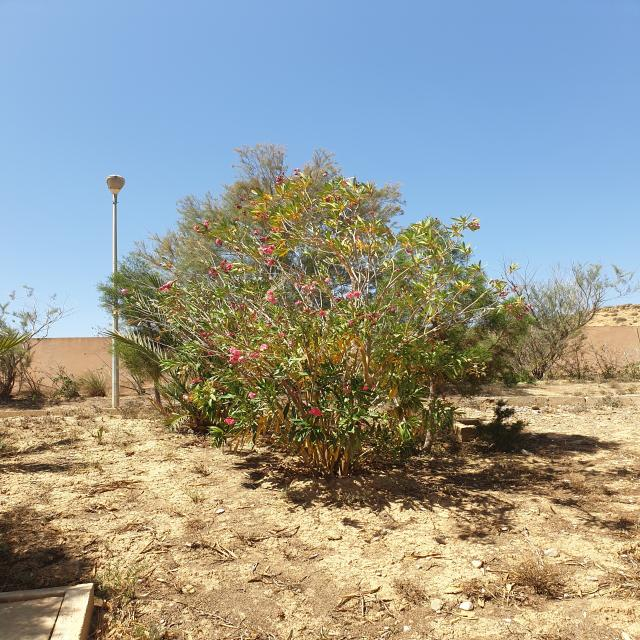Tree: (120, 170, 516, 476)
